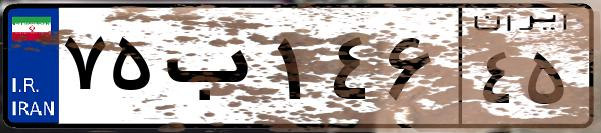1: (270, 28, 330, 110)
4: (330, 28, 385, 110), (475, 38, 525, 113)
5: (525, 38, 570, 115), (110, 28, 158, 98)
6: (385, 28, 445, 110)
7: (57, 26, 110, 100)
ب: (158, 20, 270, 120)
